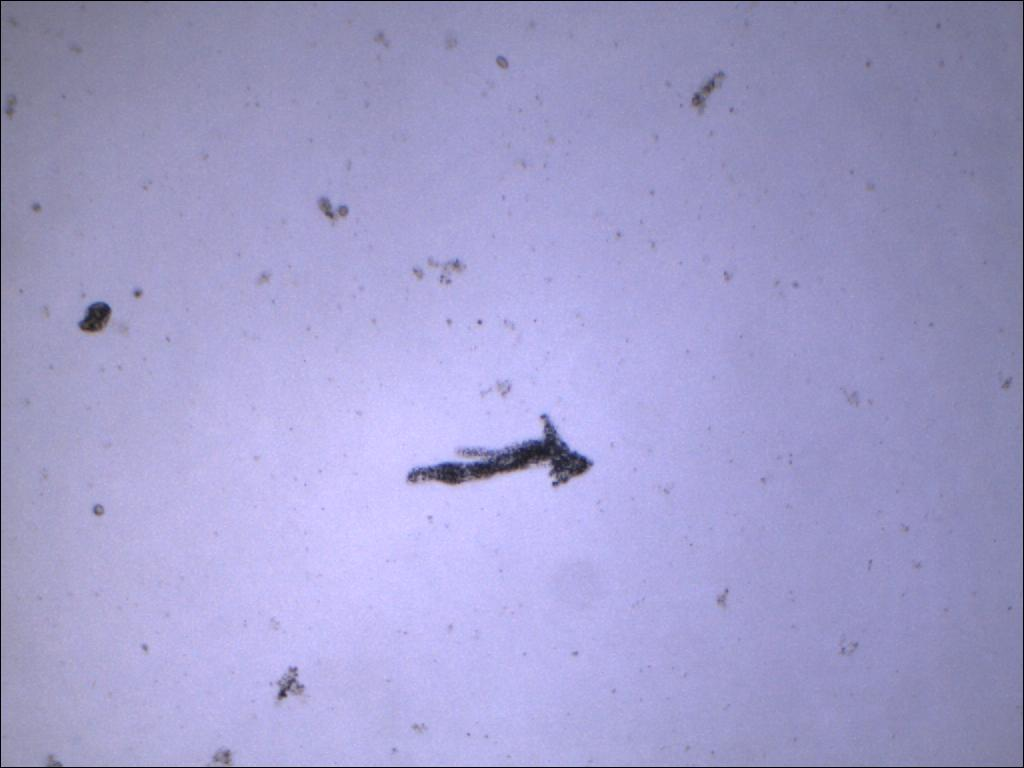amoeba: (401, 404, 599, 494)
